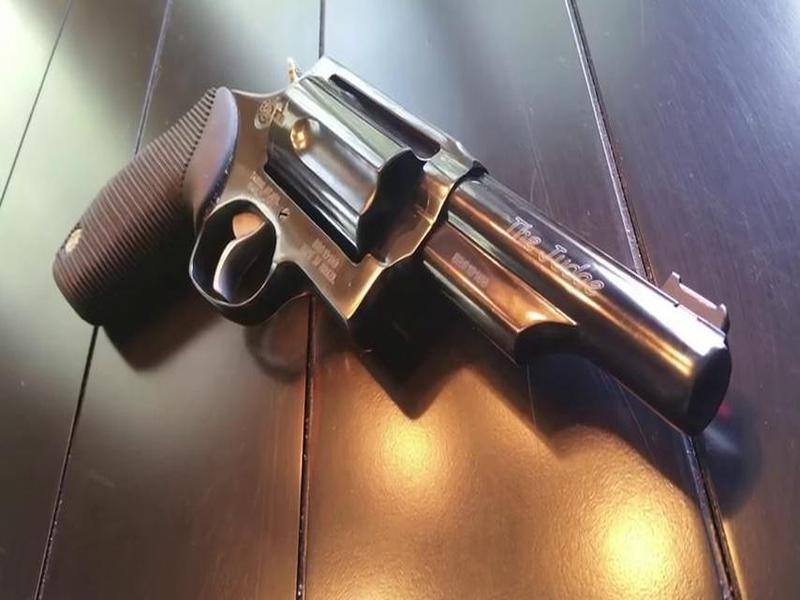Revolver: (51, 45, 720, 462)
